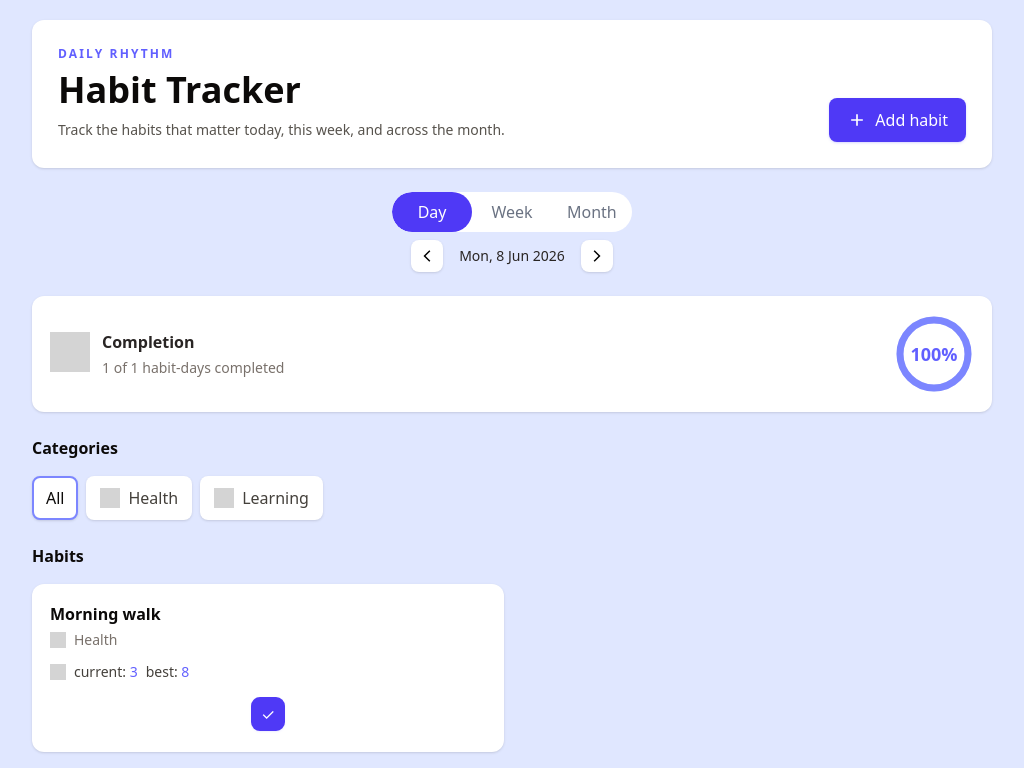
Test case: Home › opens the create habit modal
What coordinates should you click on to do the following:
click the button "Add habit"
I would click on:
 (898, 120)
Its box is [829,98,966,142].
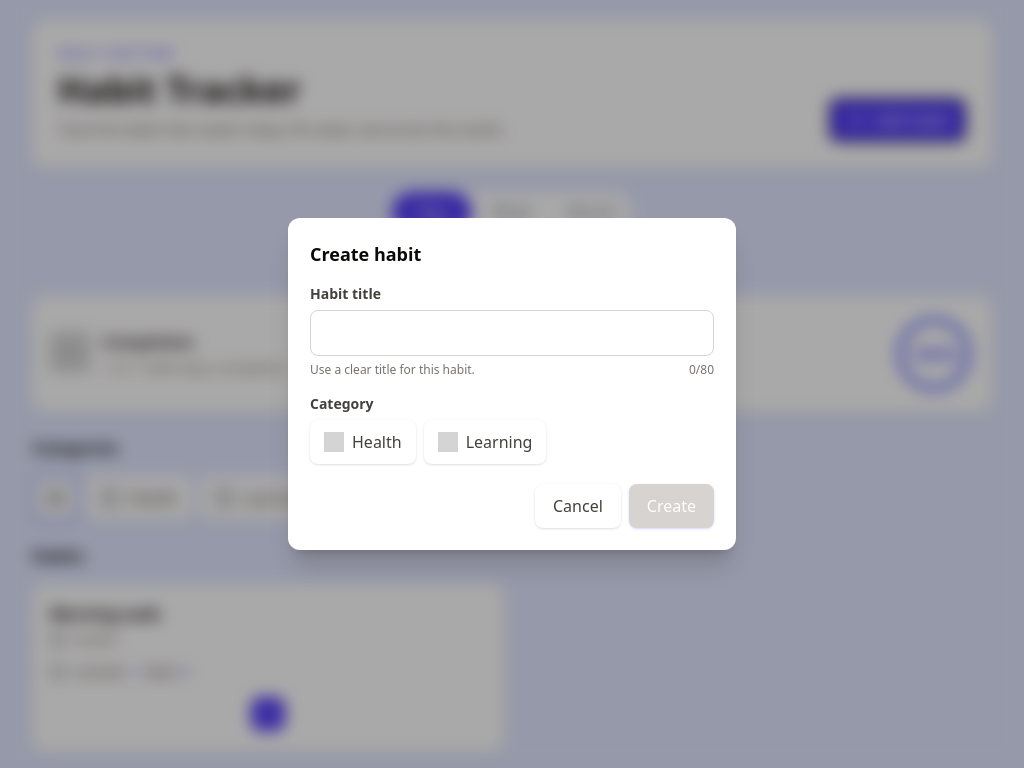
Now the dialog "Create habit" is shown, box [288,218,736,550]
